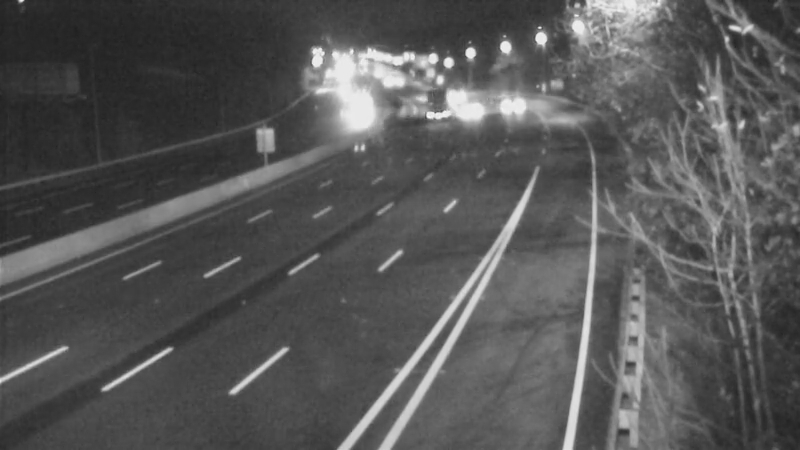vehicle: (410, 69, 460, 119), (444, 86, 494, 136), (487, 78, 537, 128), (331, 84, 381, 134)
